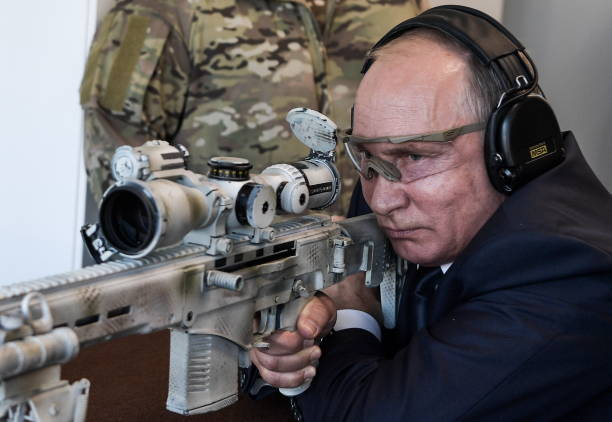rifle: (5, 140, 378, 410)
